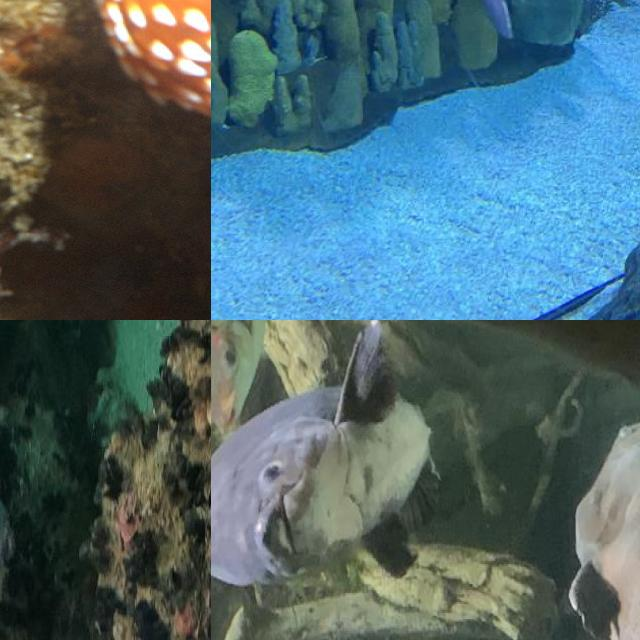fish: (0, 0, 211, 320), (211, 321, 442, 606)
